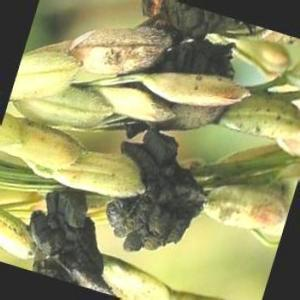Leaf_Scald: (129, 135, 200, 229), (147, 0, 237, 74), (36, 188, 96, 289)
